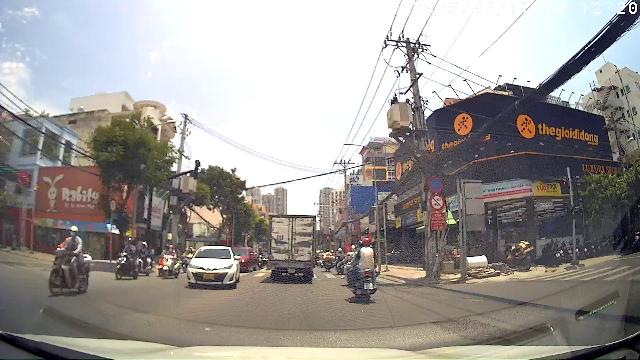131a-cam-do-xe: (427, 176, 443, 194)
